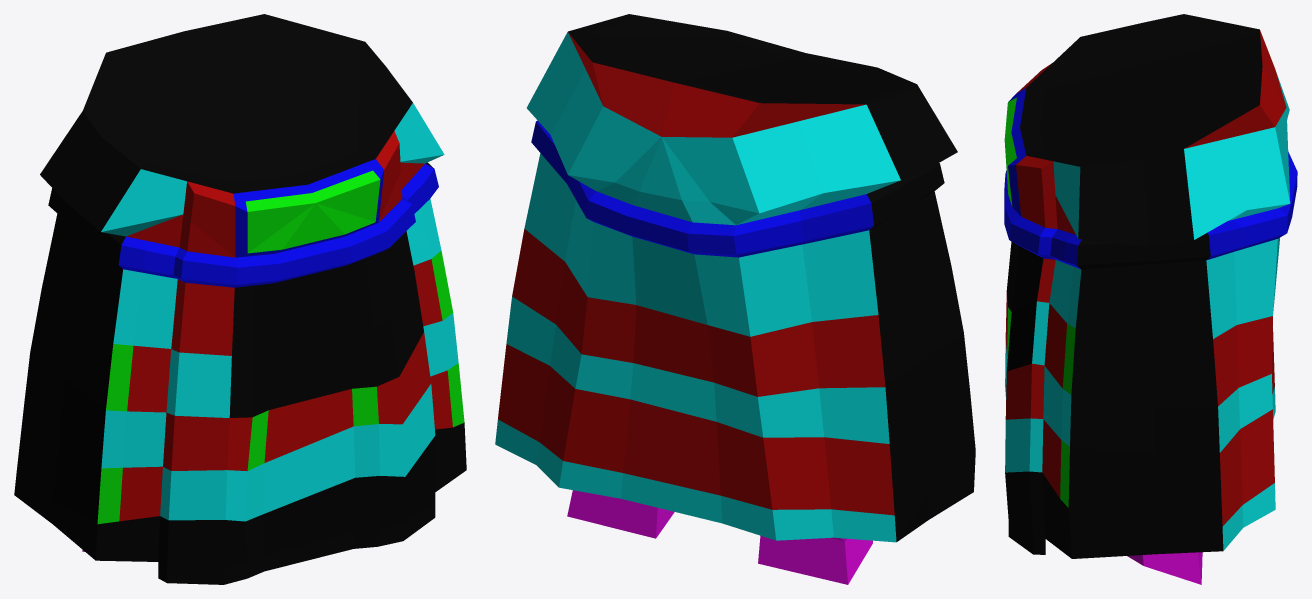
Rendered from Chr_Hips_Male_Static_26.fbx.
3 renders of one model, left to right at view 1: azimuth 30°, elevation 25°; view 2: azimuth 150°, elevation 25°; view 3: azimuth 270°, elevation 25°, orthographic. The views are drawn at different scales.
Parts seen in each view (by area): view 1: Chr_Hips_Male_26; view 2: Chr_Hips_Male_26; view 3: Chr_Hips_Male_26.
Part boxes in pixels (x1=…): Chr_Hips_Male_26: x1=14, y1=14, x2=466, y2=584; Chr_Hips_Male_26: x1=495, y1=14, x2=975, y2=584; Chr_Hips_Male_26: x1=1004, y1=14, x2=1297, y2=584.
Bounding box in the file's own units: 47.29 × 55.4 × 32.34.
